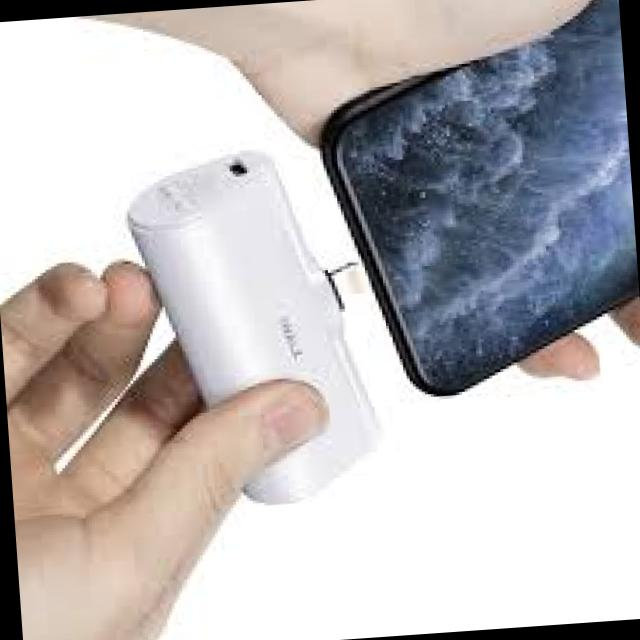portable-charger: (118, 133, 401, 516)
